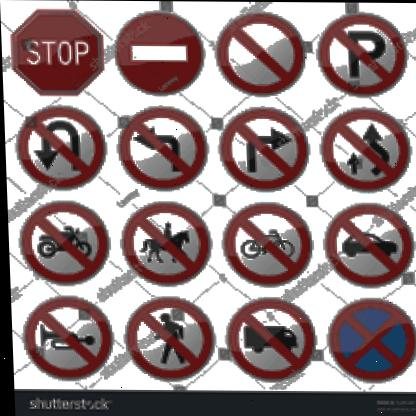No right turn: (219, 106, 305, 192)
